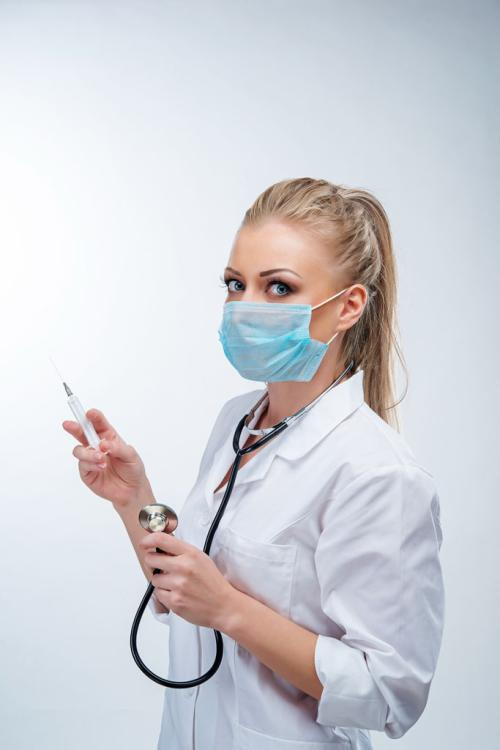correctlyWear: (217, 251, 368, 387)
